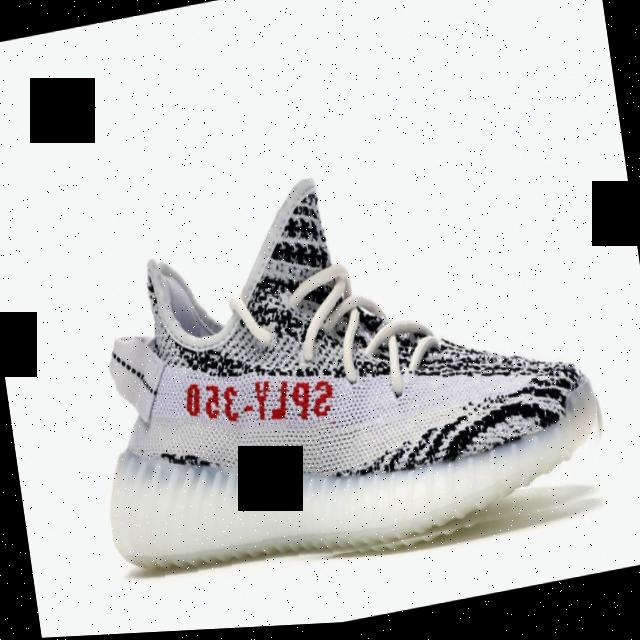shoe: (69, 130, 616, 607)
